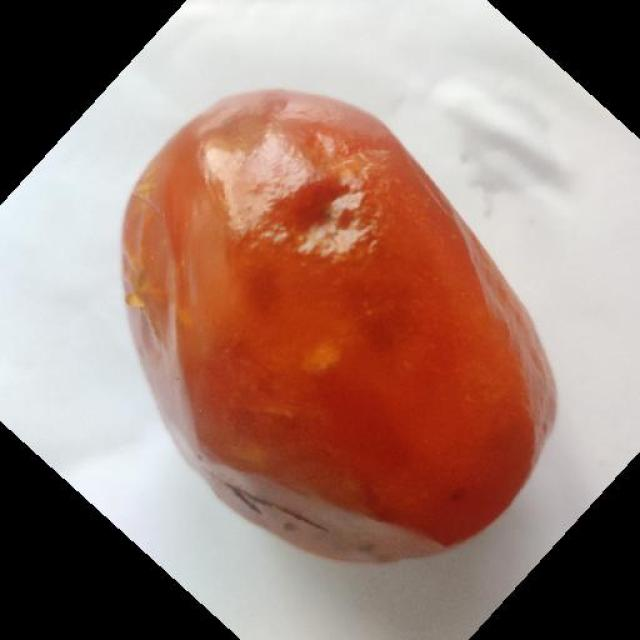Stale_tomato: (115, 93, 562, 572)
